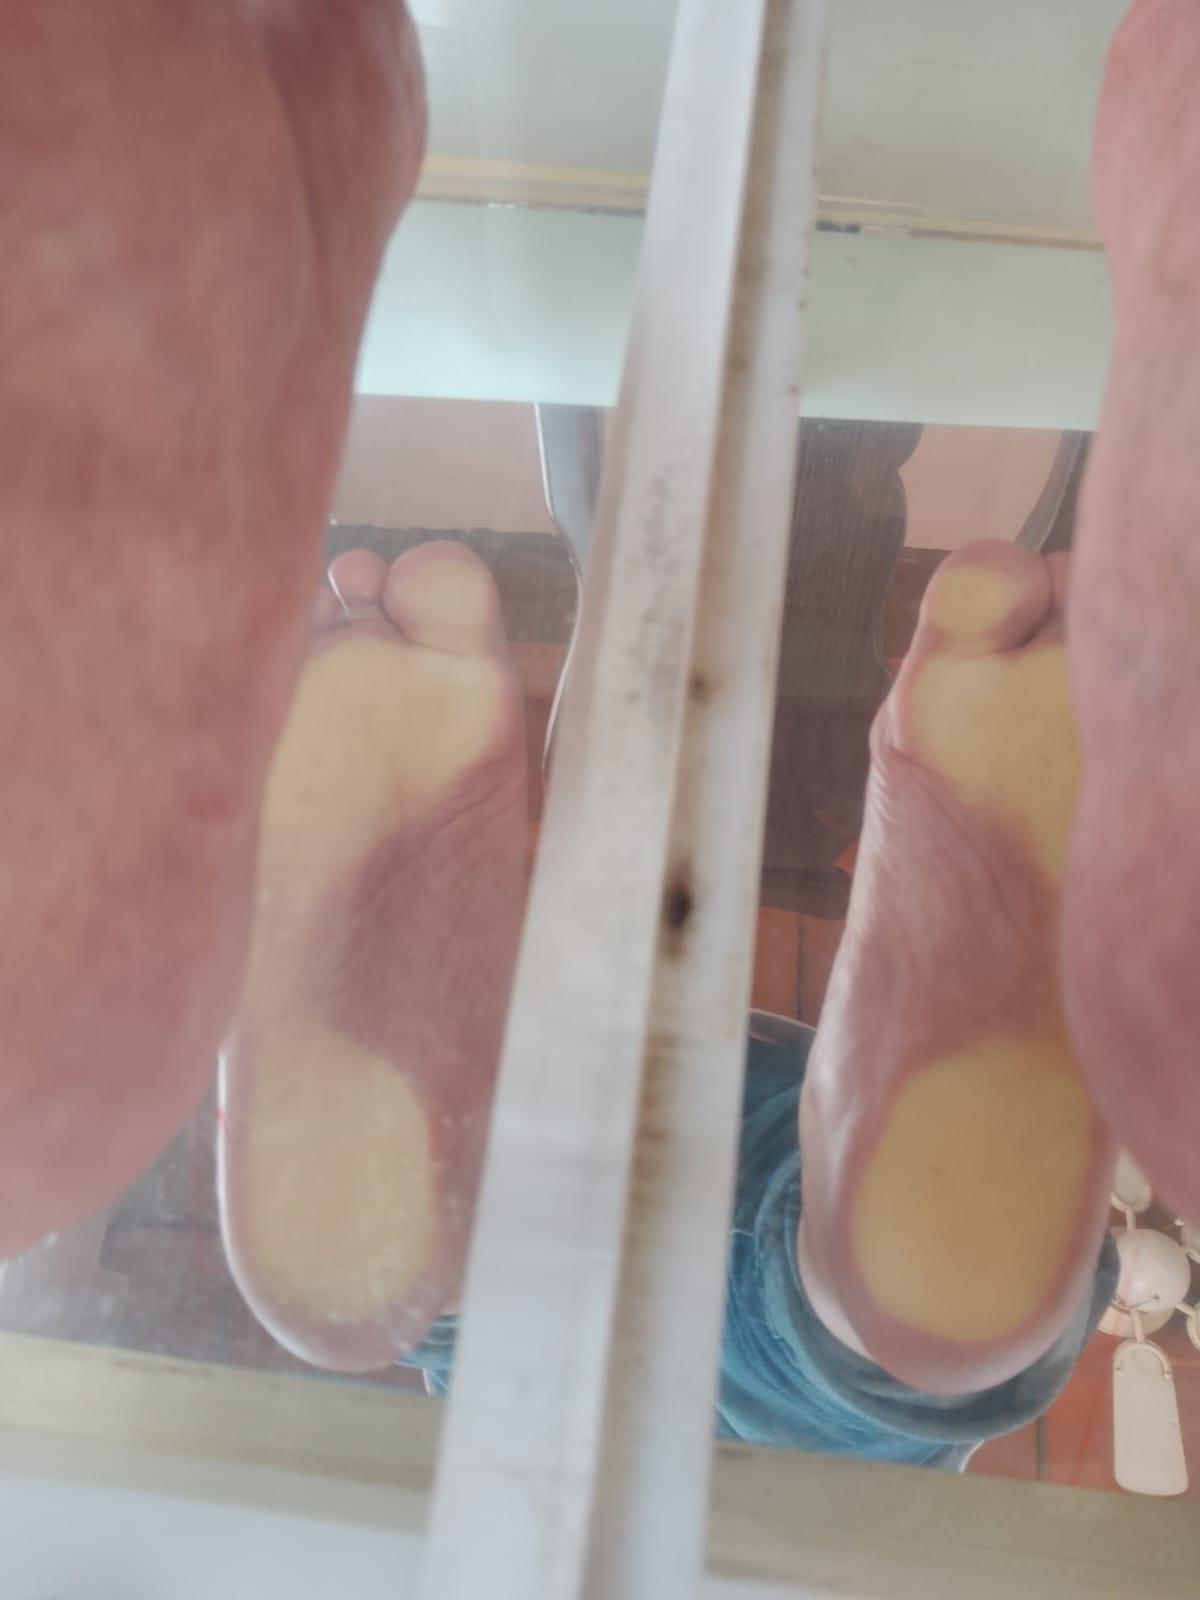Present: (795, 500, 1145, 1415), (200, 525, 555, 1400)
